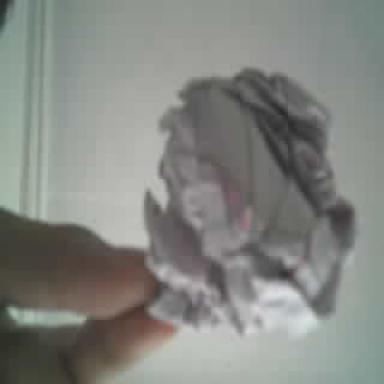paper: (144, 69, 355, 334)
